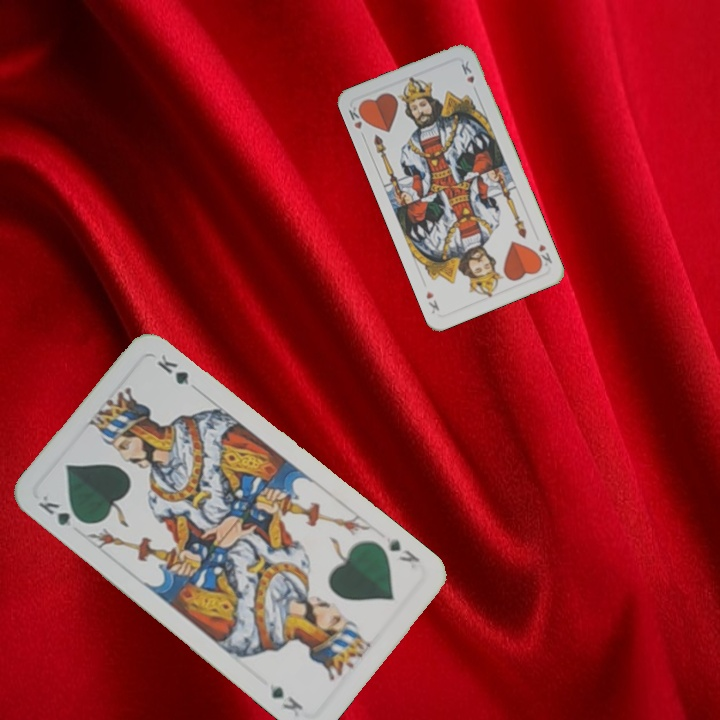GK: (34, 491, 88, 529), (385, 534, 422, 565)
HK: (344, 101, 370, 142), (530, 240, 555, 271)
